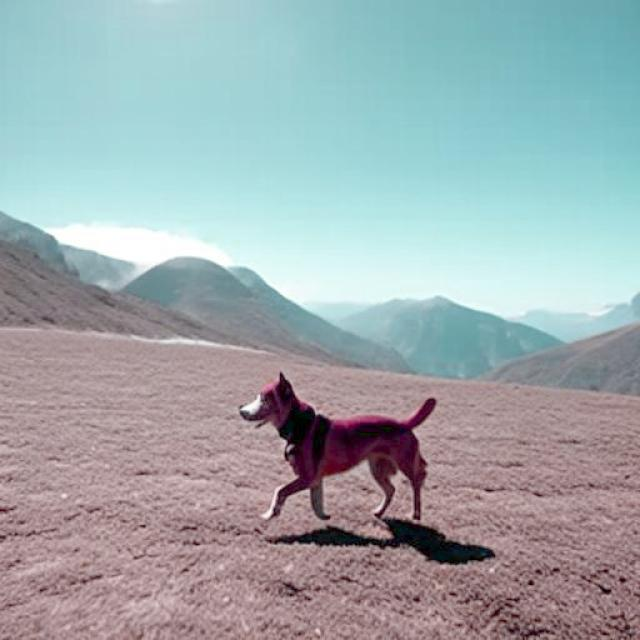Dog: (238, 371, 437, 522)
